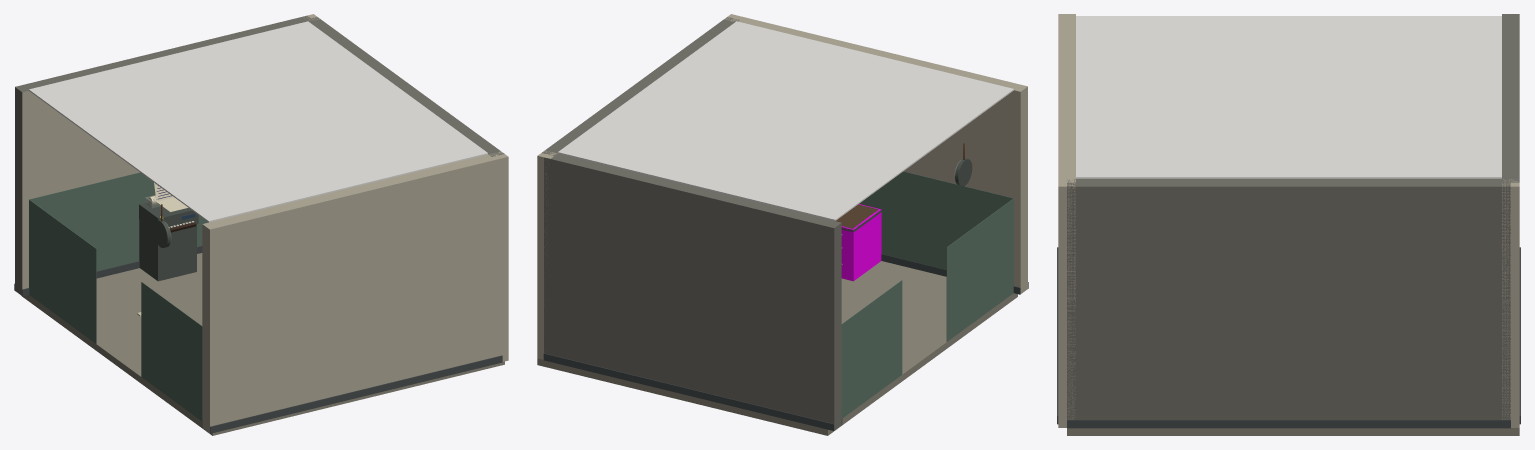
Rendered from ENV_W0_InstrumentRoom.glb.
3 renders of one model, left to right at view 1: azimuth 30°, elevation 25°; view 2: azimuth 150°, elevation 25°; view 3: azimuth 270°, elevation 25°, orthographic. The views are drawn at different scales.
Visible parts, largest first — view 1: ENV_W0_InstrumentRoom_Architecture, ENV_W0_InstrumentRoom_Ceiling, ENV_W0_InstrumentRoom_Dado, PROP_Teleprinter_Historic_Mesh, ENV_W0_InstrumentRoom_Posts, IR_Teleprinter_Sheet_Printed; view 2: ENV_W0_InstrumentRoom_Architecture, ENV_W0_InstrumentRoom_Ceiling, ENV_W0_InstrumentRoom_Dado, PROP_Desk_Steel_Tanker_COL-colonly.001, ENV_W0_InstrumentRoom_Posts, PROP_Desk_Steel_Tanker_Mesh.001; view 3: ENV_W0_InstrumentRoom_Architecture, ENV_W0_InstrumentRoom_Ceiling, ENV_W0_InstrumentRoom_Posts.
Boxes of the visible parts, x1,y1,x2,y2 form: ENV_W0_InstrumentRoom_Architecture: (14, 15, 504, 435); ENV_W0_InstrumentRoom_Ceiling: (29, 21, 487, 222); ENV_W0_InstrumentRoom_Dado: (29, 172, 208, 420); PROP_Teleprinter_Historic_Mesh: (139, 195, 198, 281); ENV_W0_InstrumentRoom_Posts: (302, 14, 508, 361); IR_Teleprinter_Sheet_Printed: (152, 182, 188, 211); ENV_W0_InstrumentRoom_Architecture: (537, 16, 1028, 435); ENV_W0_InstrumentRoom_Ceiling: (558, 21, 1013, 220); ENV_W0_InstrumentRoom_Dado: (841, 171, 1013, 418); PROP_Desk_Steel_Tanker_COL-colonly.001: (841, 204, 881, 281); ENV_W0_InstrumentRoom_Posts: (537, 14, 742, 359); PROP_Desk_Steel_Tanker_Mesh.001: (835, 204, 881, 264); ENV_W0_InstrumentRoom_Architecture: (1057, 14, 1520, 435); ENV_W0_InstrumentRoom_Ceiling: (1076, 16, 1501, 178); ENV_W0_InstrumentRoom_Posts: (1058, 179, 1519, 427).
Size of what is drawn, in the model's own units: 4.61 by 3.12 by 5.22.
